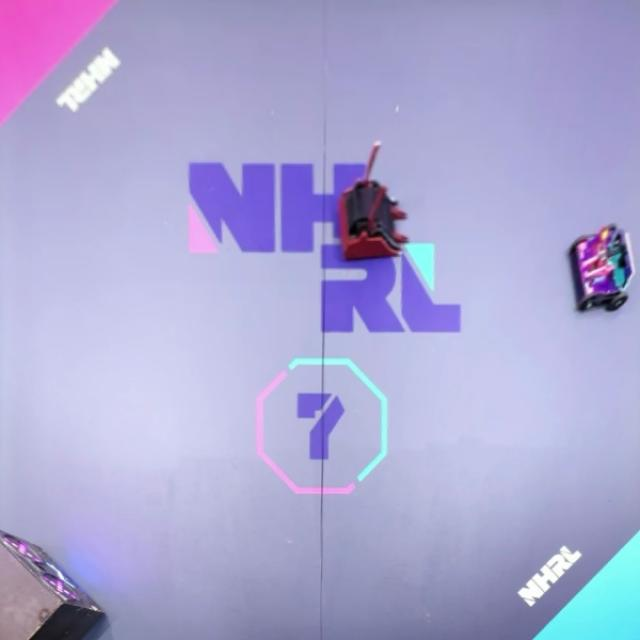housebot: (0, 527, 105, 640)
robot: (338, 144, 409, 260), (569, 222, 634, 310)
